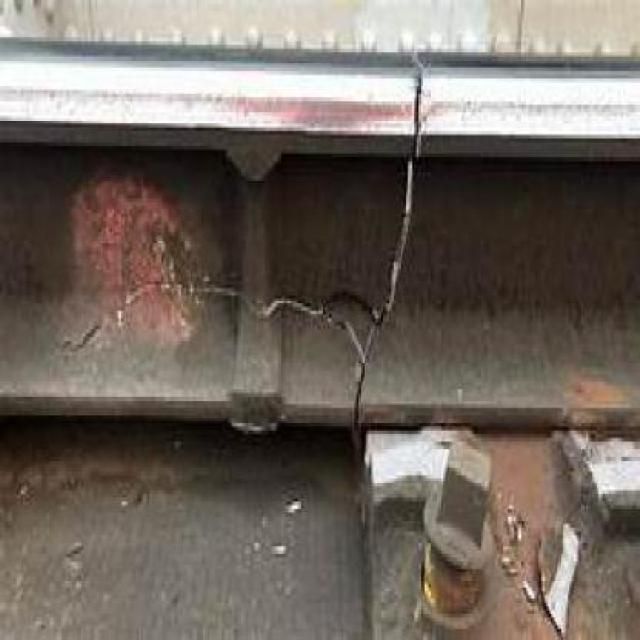defective: (15, 17, 640, 589)
